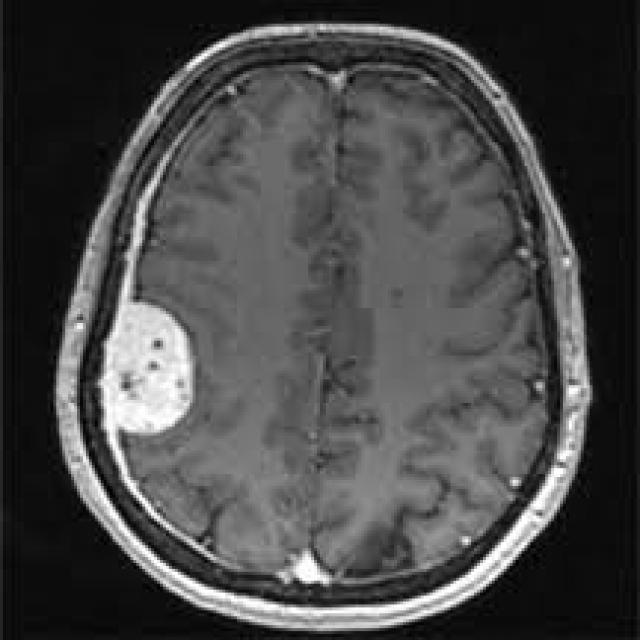Brain-Tumor: (94, 290, 216, 448)
